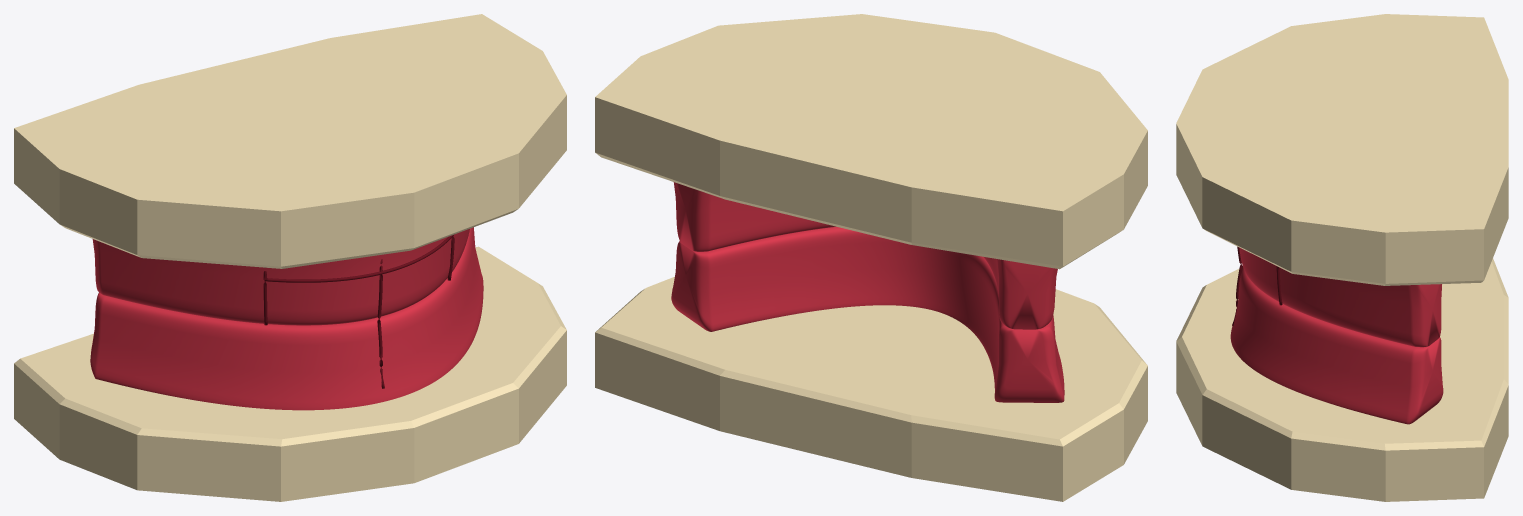
Rendered from plano-cera.glb.
The picture shows the model from 3 angles, left to right: view 1: azimuth 30°, elevation 25°; view 2: azimuth 150°, elevation 25°; view 3: azimuth 270°, elevation 25°; orthographic projection. The views are drawn at different scales.
Parts seen in each view (by area): view 1: GessoSuperior, GessoInferior, PlanoInferior, PlanoSuperior, Linha_sorriso; view 2: GessoSuperior, GessoInferior, PlanoInferior, PlanoSuperior; view 3: GessoSuperior, GessoInferior, PlanoInferior, PlanoSuperior.
Boxes of the visible parts, left/top/right/bottom form: GessoSuperior: left=14, top=14, right=566, bottom=268; GessoInferior: left=14, top=246, right=566, bottom=501; PlanoInferior: left=90, top=227, right=483, bottom=410; PlanoSuperior: left=92, top=229, right=469, bottom=325; Linha_sorriso: left=265, top=235, right=453, bottom=282; GessoSuperior: left=595, top=14, right=1147, bottom=269; GessoInferior: left=595, top=276, right=1147, bottom=501; PlanoInferior: left=671, top=226, right=1064, bottom=402; PlanoSuperior: left=673, top=182, right=1057, bottom=329; GessoSuperior: left=1176, top=14, right=1508, bottom=285; GessoInferior: left=1176, top=258, right=1508, bottom=501; PlanoInferior: left=1230, top=267, right=1443, bottom=424; PlanoSuperior: left=1239, top=247, right=1441, bottom=347.
Size of the model in its own units: 0.0882 by 0.0507 by 0.0567.
